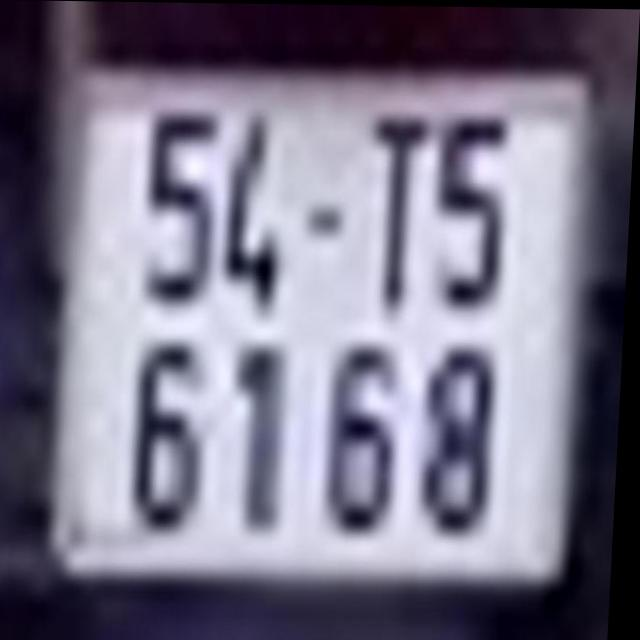1: (227, 334, 301, 531)
4: (222, 101, 293, 310)
5: (136, 102, 226, 311), (433, 107, 520, 323)
6: (127, 332, 221, 539), (325, 334, 408, 542)
8: (417, 340, 503, 539)
T: (365, 101, 437, 319)
